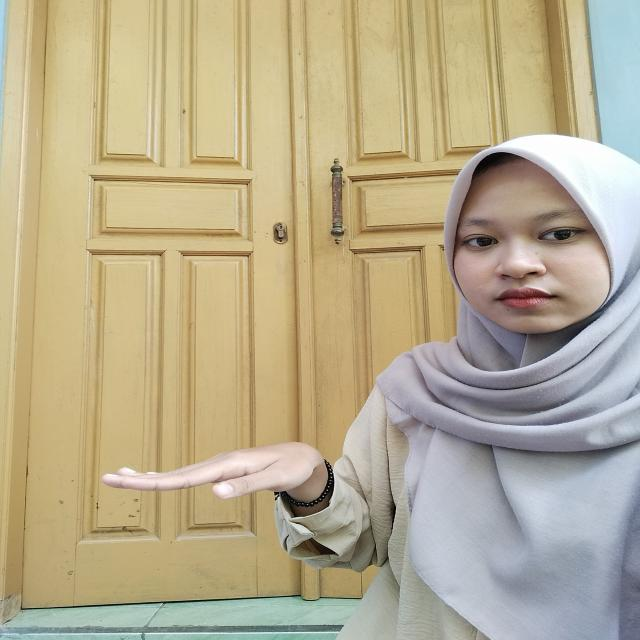adik: (89, 432, 358, 523)
